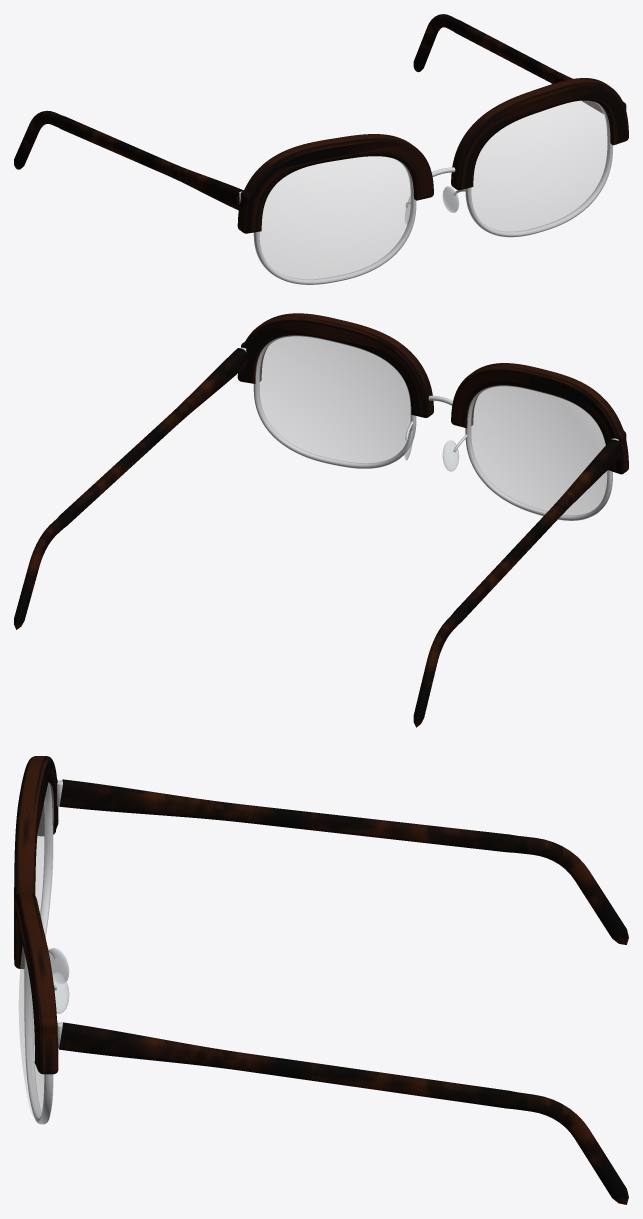
Rendered from clark-l.glb.
The picture shows the model from 3 angles, top to bottom: view 1: azimuth 30°, elevation 25°; view 2: azimuth 150°, elevation 25°; view 3: azimuth 270°, elevation 25°; orthographic projection. The views are drawn at different scales.
Visible parts, largest first — view 1: Lens_R, Front, Lens_L, Temple_R, Temple_L, NosePads; view 2: Lens_L, Front, Lens_R, Temple_L, Temple_R, NosePads; view 3: Temple_L, Temple_R, Front, Lens_L, Lens_R, NosePads.
Part boxes in pixels (bbox=[...]): Lens_R: bbox=[260, 156, 411, 282]; Front: bbox=[237, 78, 628, 284]; Lens_L: bbox=[471, 101, 608, 234]; Temple_R: bbox=[14, 110, 243, 210]; Temple_L: bbox=[413, 14, 603, 113]; NosePads: bbox=[405, 186, 459, 224]; Lens_L: bbox=[255, 336, 411, 463]; Front: bbox=[237, 313, 628, 520]; Lens_R: bbox=[467, 386, 607, 515]; Temple_L: bbox=[14, 348, 247, 629]; Temple_R: bbox=[413, 439, 621, 727]; NosePads: bbox=[404, 430, 459, 471]; Temple_L: bbox=[59, 1022, 628, 1204]; Temple_R: bbox=[59, 779, 628, 944]; Front: bbox=[14, 756, 62, 1124]; Lens_L: bbox=[19, 946, 53, 1119]; Lens_R: bbox=[23, 782, 53, 969]; NosePads: bbox=[48, 948, 69, 1013].
Size of the model in its own units: 0.1498 by 0.0594 by 0.147.
Materials: 5 (2 with a texture image).
